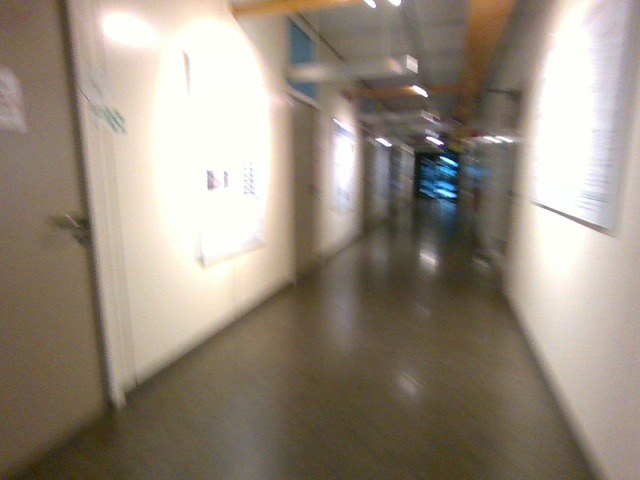door: (2, 1, 117, 479)
